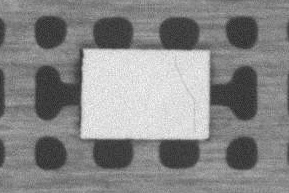DIE_CRACK: (174, 57, 198, 132)
